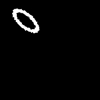chain: (12, 9, 38, 32)
